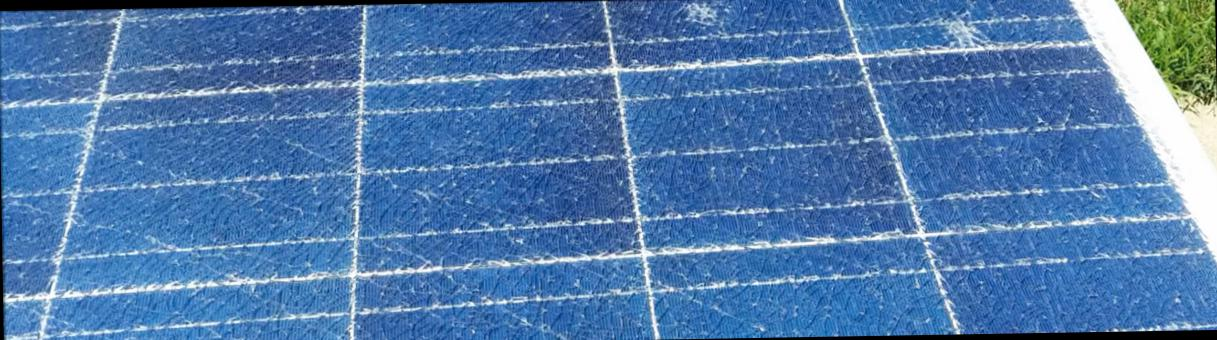Crack: (917, 0, 1013, 62), (669, 0, 751, 35)
